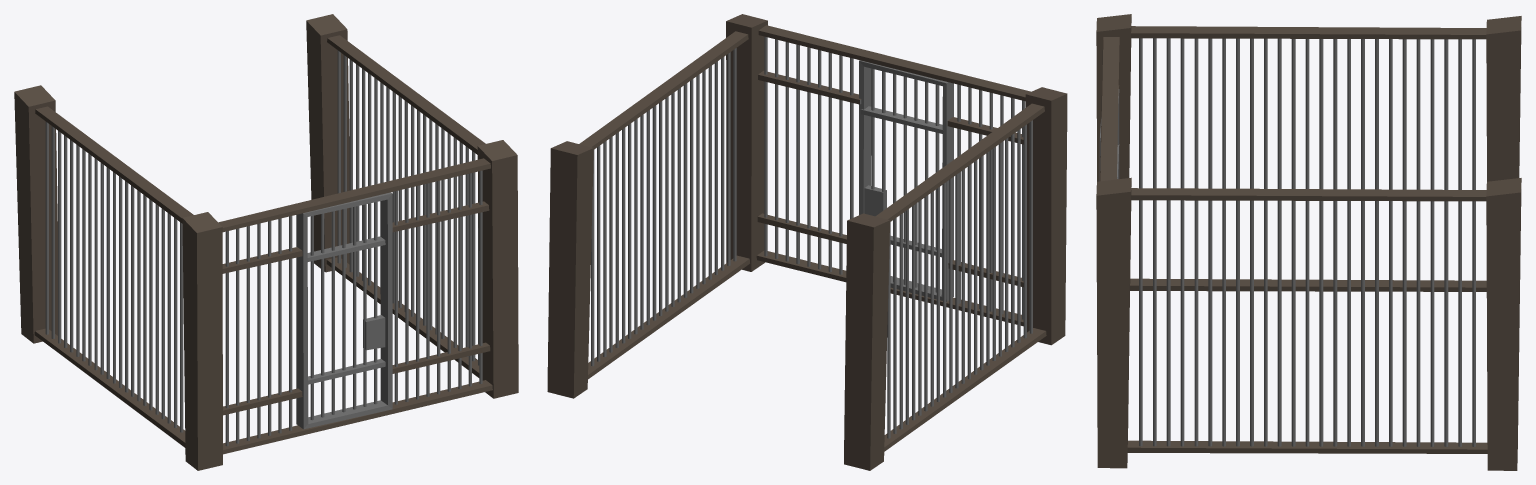
Rendered from prigione01.fbx.
The picture shows the model from 3 angles, left to right: view 1: azimuth 30°, elevation 25°; view 2: azimuth 150°, elevation 25°; view 3: azimuth 270°, elevation 25°; orthographic projection. The views are drawn at different scales.
Visible parts, largest first — view 1: MSH_prigione, MSH_prigione_porta; view 2: MSH_prigione, MSH_prigione_porta; view 3: MSH_prigione.
Part boxes in pixels (<box>): MSH_prigione: <box>14,14,518,470</box>; MSH_prigione_porta: <box>296,192,392,429</box>; MSH_prigione: <box>547,14,1067,470</box>; MSH_prigione_porta: <box>859,60,953,301</box>; MSH_prigione: <box>1096,14,1521,470</box>.
Size of the model in its own units: 61.76 by 43.72 by 61.07.
